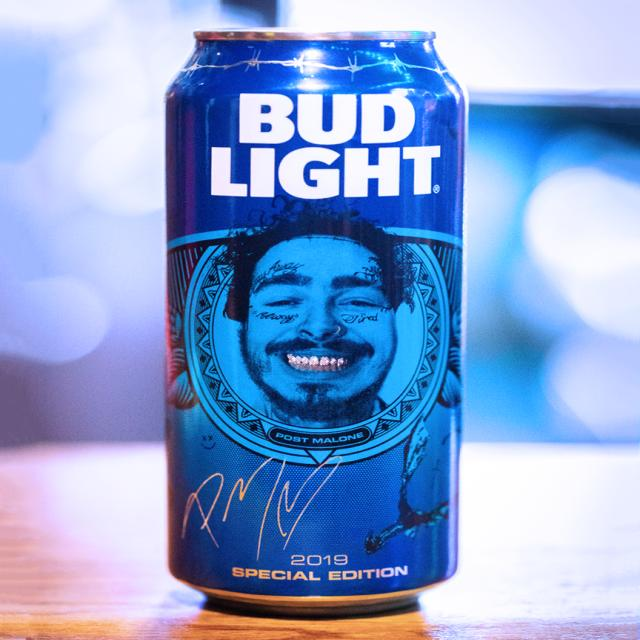can: (159, 24, 462, 616)
